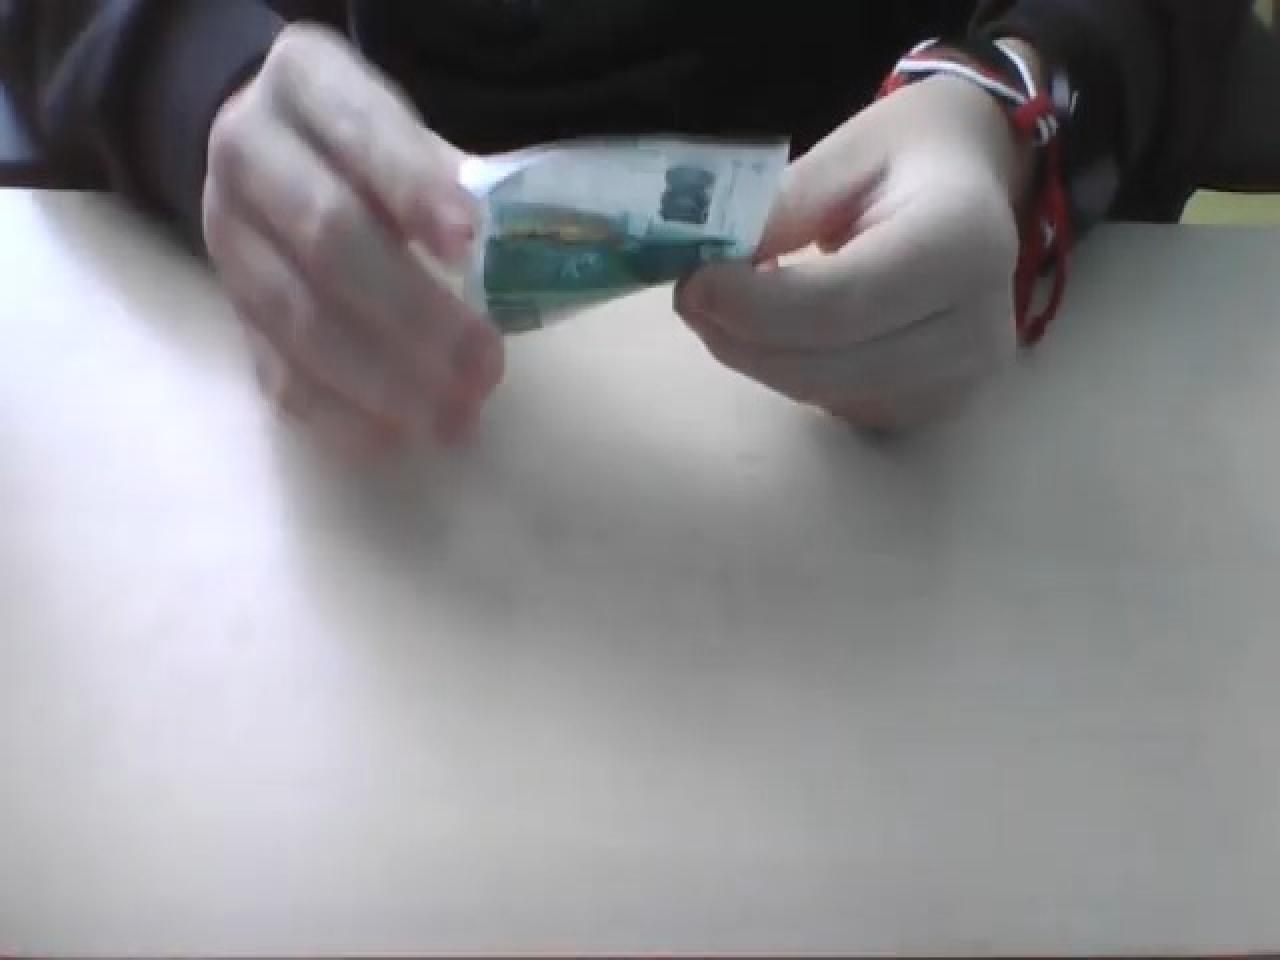100leva: (458, 130, 790, 339)
